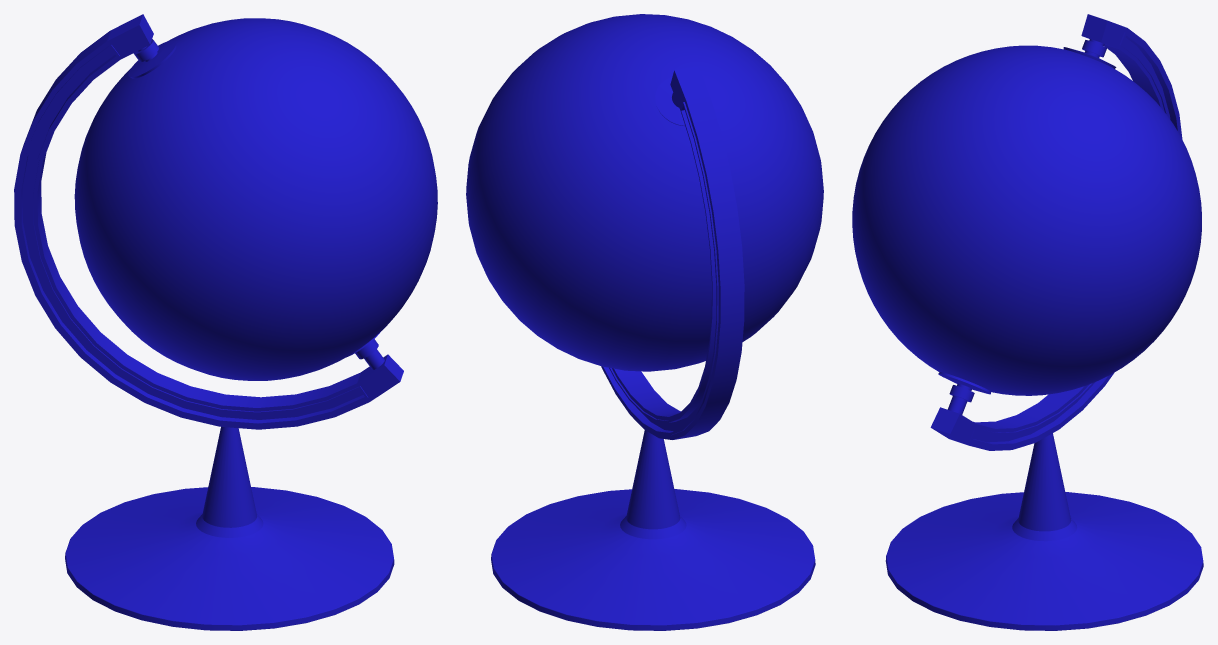
File: decor.obj
3 renders of one model, left to right at view 1: azimuth 30°, elevation 25°; view 2: azimuth 150°, elevation 25°; view 3: azimuth 270°, elevation 25°, orthographic. The views are drawn at different scales.
Parts seen in each view (by area): view 1: globe:pCube81 group19; view 2: globe:pCube81 group19; view 3: globe:pCube81 group19.
Boxes of the visible parts, x1,y1,x2,y2 form: globe:pCube81 group19: (14,14,437,630); globe:pCube81 group19: (466,14,823,630); globe:pCube81 group19: (852,14,1203,630).
Size of the model in its own units: 0.837 by 1.31 by 0.8027.
